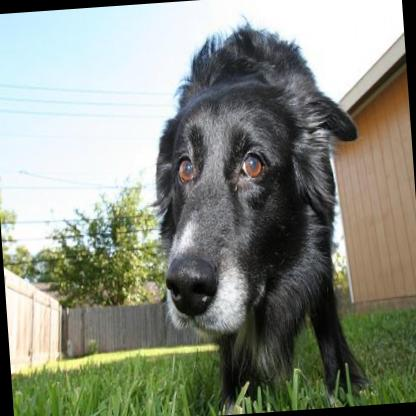Border_collie: (141, 15, 379, 416)
